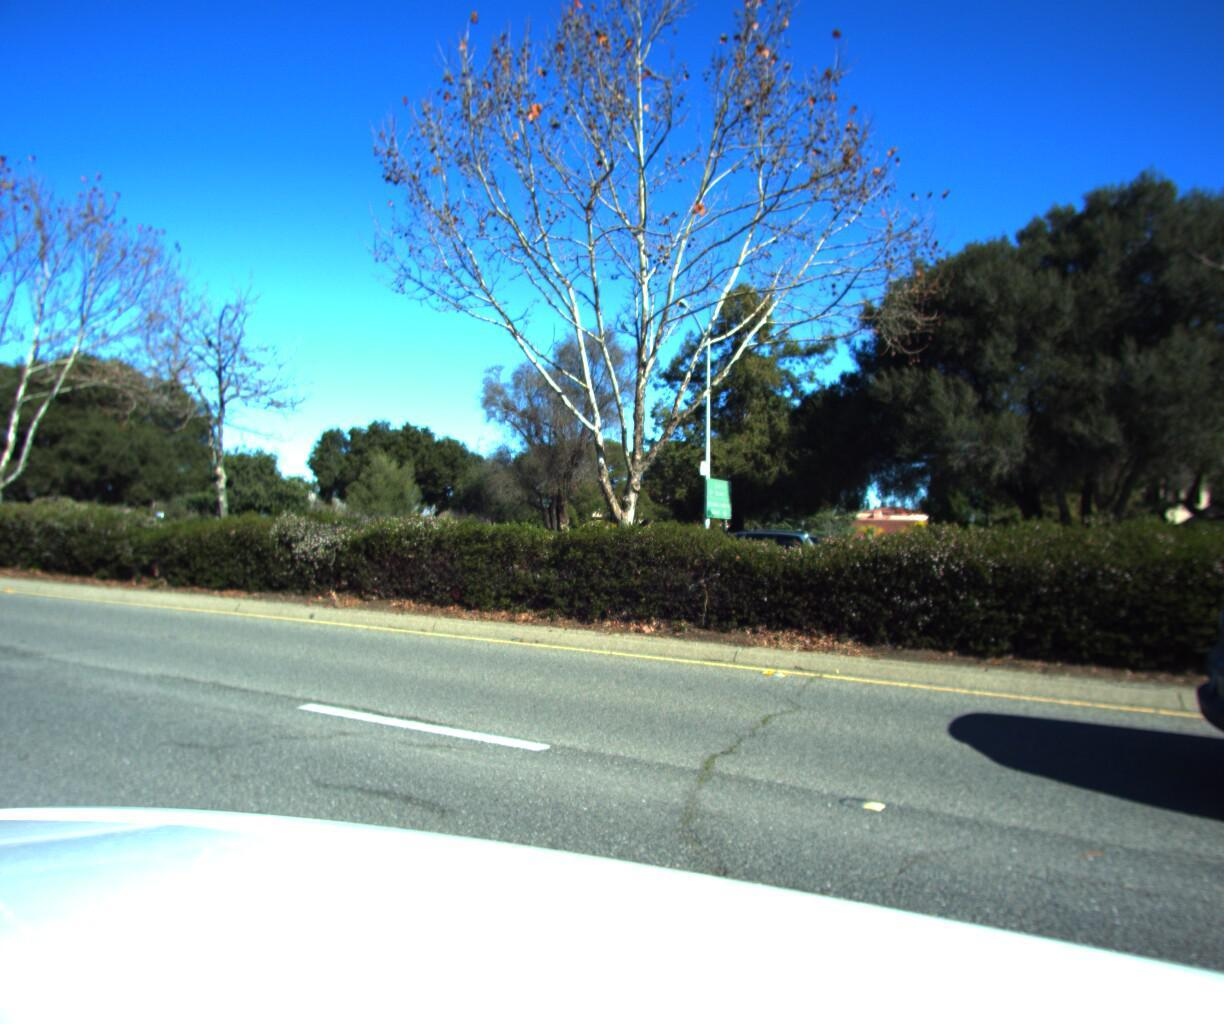car: (1135, 502, 1224, 1024), (658, 521, 835, 594)
